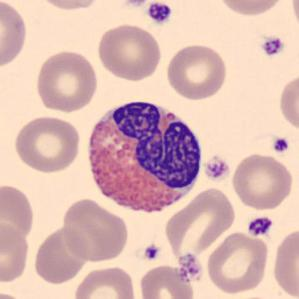Eosinophil: (81, 91, 206, 223)
Platelets: (175, 252, 204, 282), (202, 155, 232, 183), (146, 0, 173, 26), (259, 34, 286, 58), (246, 216, 274, 237), (141, 243, 162, 263), (271, 135, 291, 155), (123, 0, 148, 7)
RBC: (162, 185, 238, 258), (59, 196, 130, 264), (33, 48, 100, 114), (204, 231, 271, 295), (12, 113, 82, 174), (94, 22, 162, 83), (229, 152, 295, 212), (164, 41, 229, 101), (32, 228, 92, 284), (71, 263, 139, 299), (0, 180, 36, 245), (137, 262, 197, 299), (270, 225, 299, 299), (0, 0, 30, 71), (0, 221, 32, 284), (277, 70, 298, 134), (214, 0, 288, 18), (32, 0, 105, 12), (288, 0, 299, 35), (0, 289, 29, 299)
